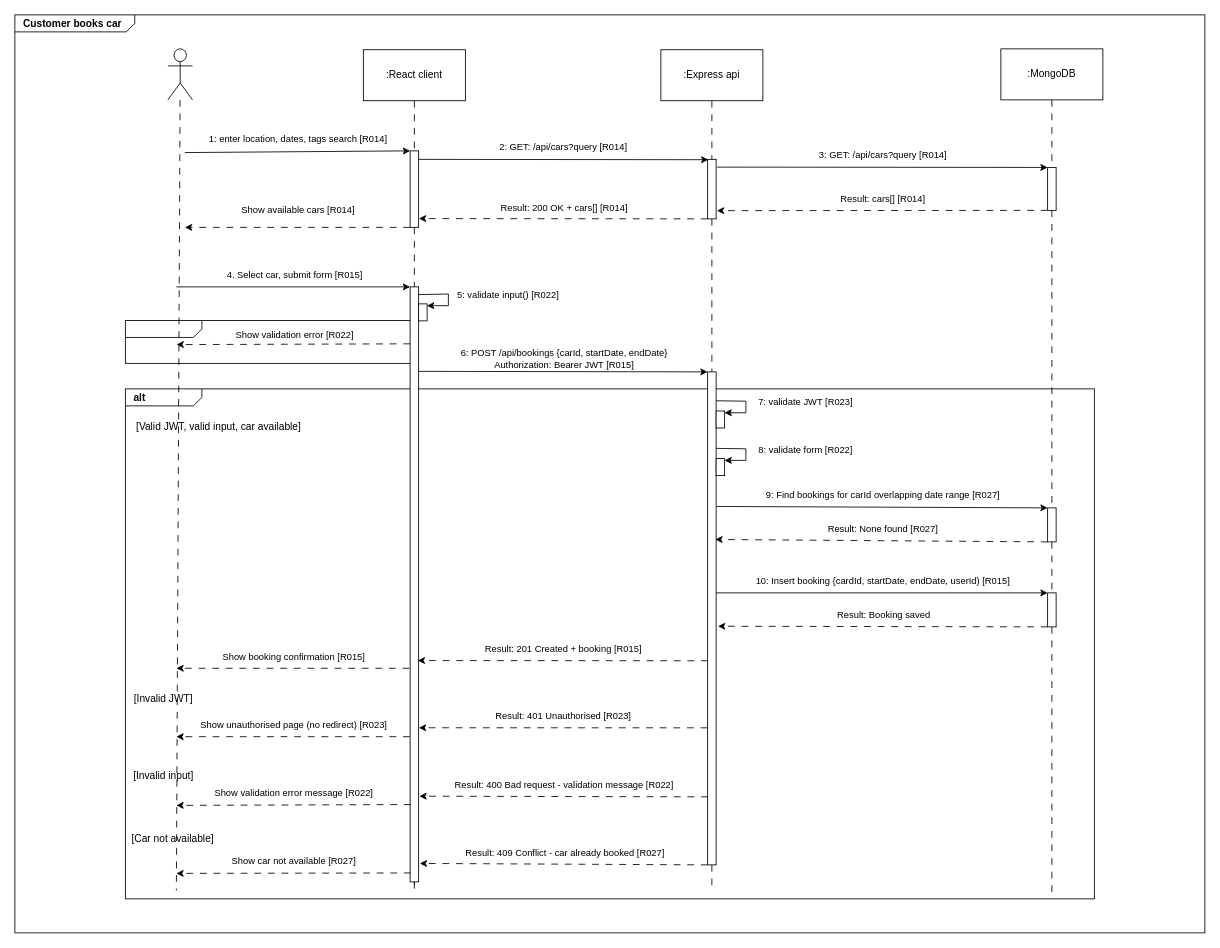
The diagram is 1220 pixels wide and 948 high, and some of its shapes have lost their labels. Each missing label, with the centre of its shape:
"break" belongs at point 269,341.
"Customer" belongs at point 180,74.
